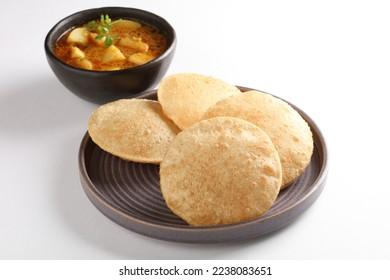puri: (81, 81, 317, 226)
